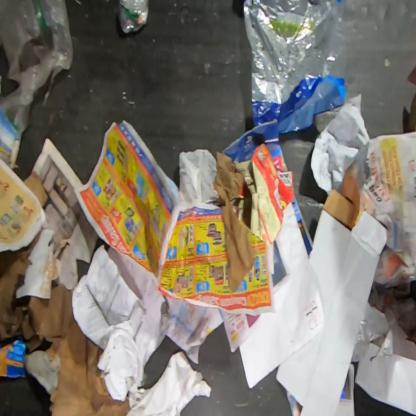cardboard: (24, 282, 130, 416), (0, 340, 27, 378)
rigid_plastic: (96, 328, 145, 402), (116, 0, 150, 35)
soft_plastic: (242, 0, 349, 135), (0, 0, 75, 111), (351, 320, 370, 362)
